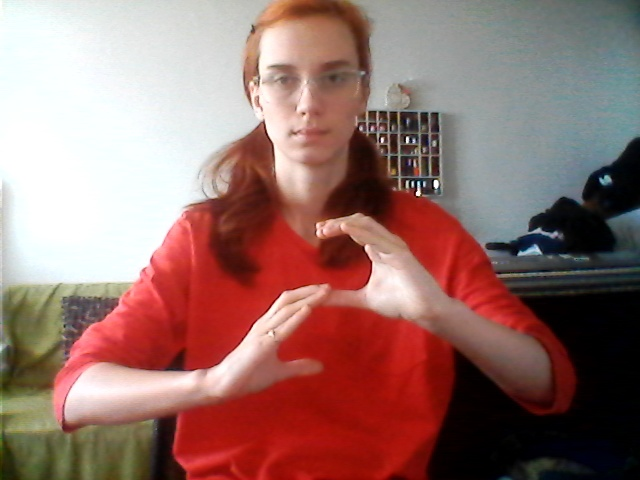s: (225, 202, 433, 412)
